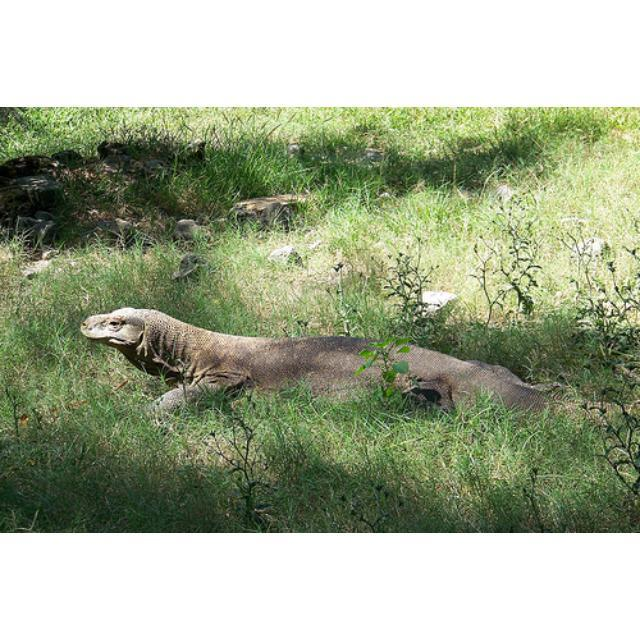KomodoDragon: (76, 306, 550, 418)
